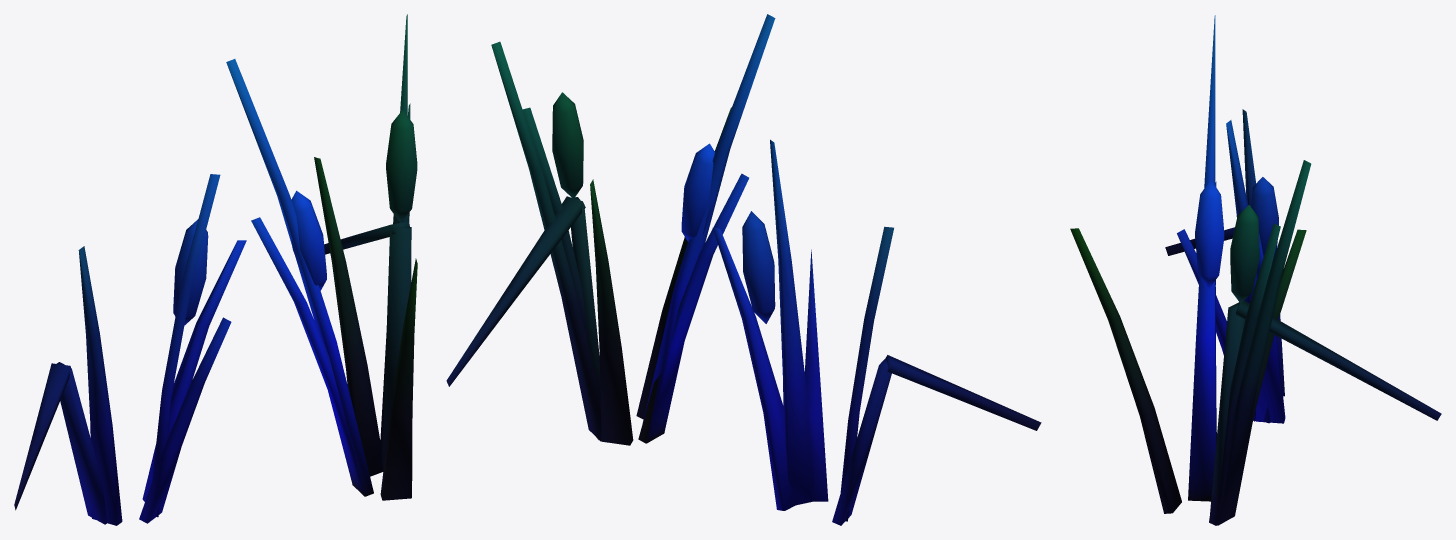
Rendered from SM_Foliage_March_Reeds_B.fbx.
3 views of the same model, side by side, from view 1: azimuth 30°, elevation 25°; view 2: azimuth 150°, elevation 25°; view 3: azimuth 270°, elevation 25° (orthographic). The views are drawn at different scales.
Visible parts, largest first — view 1: SM_Foliage_March_Reeds_B; view 2: SM_Foliage_March_Reeds_B; view 3: SM_Foliage_March_Reeds_B.
Boxes of the visible parts, left/top/right/bottom form: SM_Foliage_March_Reeds_B: left=14, top=14, right=417, bottom=525; SM_Foliage_March_Reeds_B: left=446, top=14, right=1041, bottom=525; SM_Foliage_March_Reeds_B: left=1070, top=15, right=1441, bottom=525.
Bounding box in the file's own units: 0.541 × 0.5013 × 0.3935.
